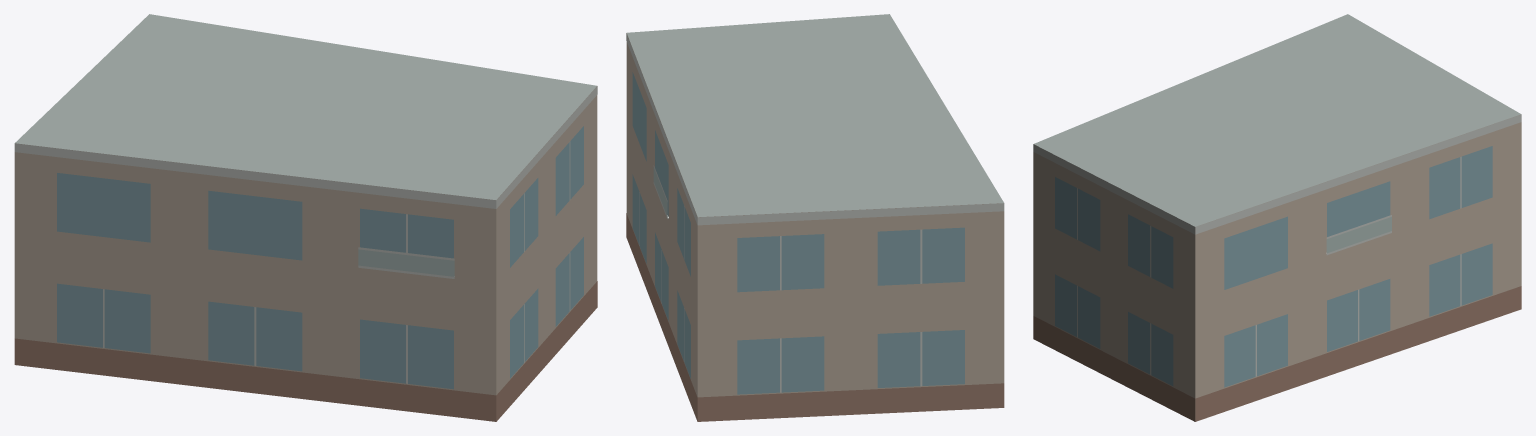
Rendered from survey-upis-32496435.glb.
3 views of the same model, side by side, from view 1: azimuth 30°, elevation 25°; view 2: azimuth 150°, elevation 25°; view 3: azimuth 270°, elevation 25° (orthographic). The views are drawn at different scales.
Visible parts, largest first — view 1: survey-upis-32496435.tmp; view 2: survey-upis-32496435.tmp; view 3: survey-upis-32496435.tmp.
Part boxes in pixels (x1,y1,x2,y2): survey-upis-32496435.tmp: (14, 14, 597, 421); survey-upis-32496435.tmp: (626, 14, 1004, 421); survey-upis-32496435.tmp: (1033, 14, 1521, 421).
Size of the model in its own units: 14.29 by 6.1 by 13.85.
